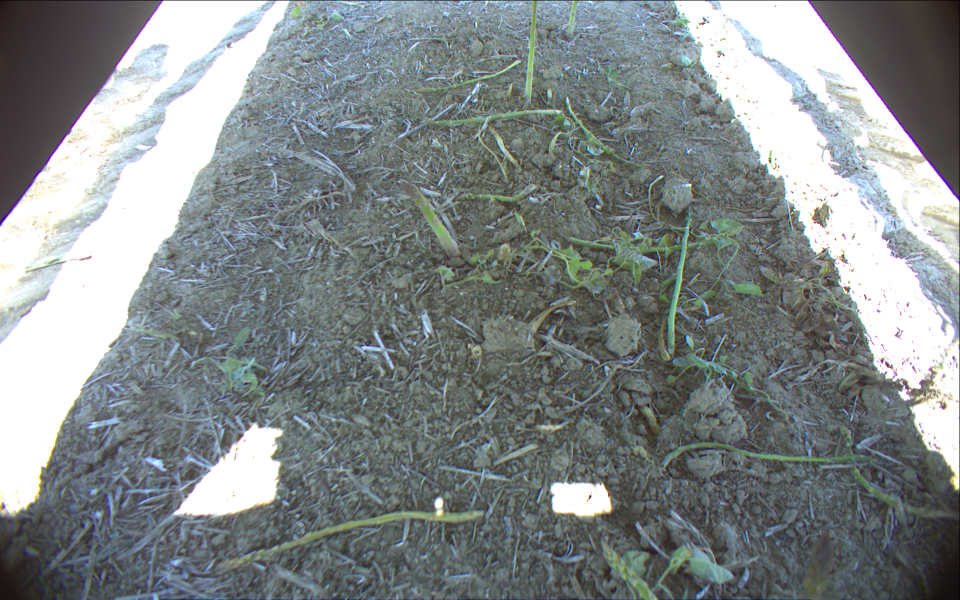aspa: (394, 176, 465, 265), (518, 1, 544, 104), (561, 1, 576, 43)
